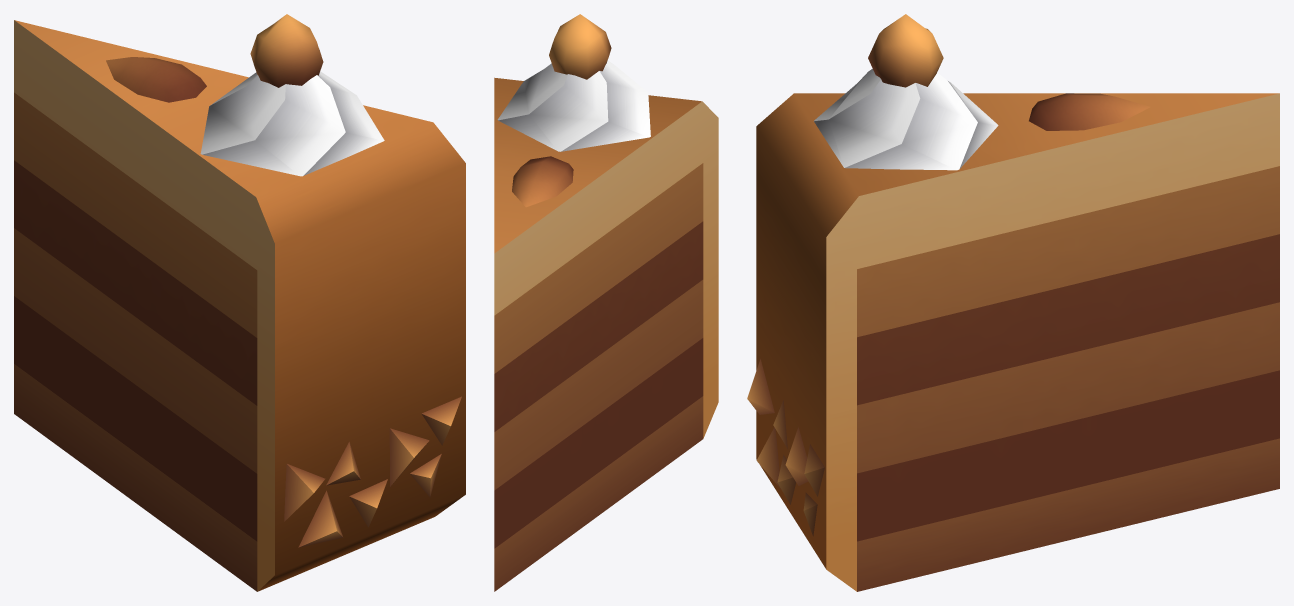
Rendered from m_NutCake01_Slice.fbx.
The picture shows the model from 3 angles, left to right: view 1: azimuth 30°, elevation 25°; view 2: azimuth 150°, elevation 25°; view 3: azimuth 270°, elevation 25°; orthographic projection. The views are drawn at different scales.
Visible parts, largest first — view 1: m_NutCake01_Slice; view 2: m_NutCake01_Slice; view 3: m_NutCake01_Slice.
Boxes of the visible parts, x1=… form: m_NutCake01_Slice: x1=14, y1=14, x2=465, y2=591; m_NutCake01_Slice: x1=494, y1=14, x2=718, y2=591; m_NutCake01_Slice: x1=747, y1=14, x2=1279, y2=591.
Bounding box in the file's own units: 5.88 × 12.82 × 11.97.
